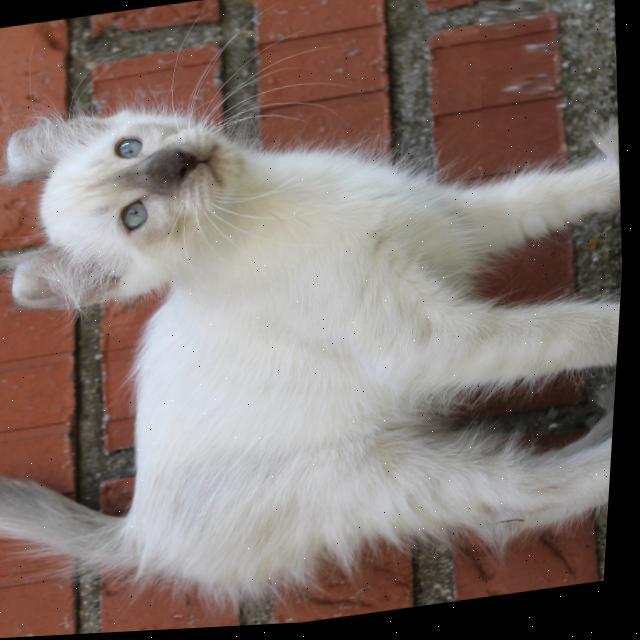American Curl: (0, 43, 637, 638)
